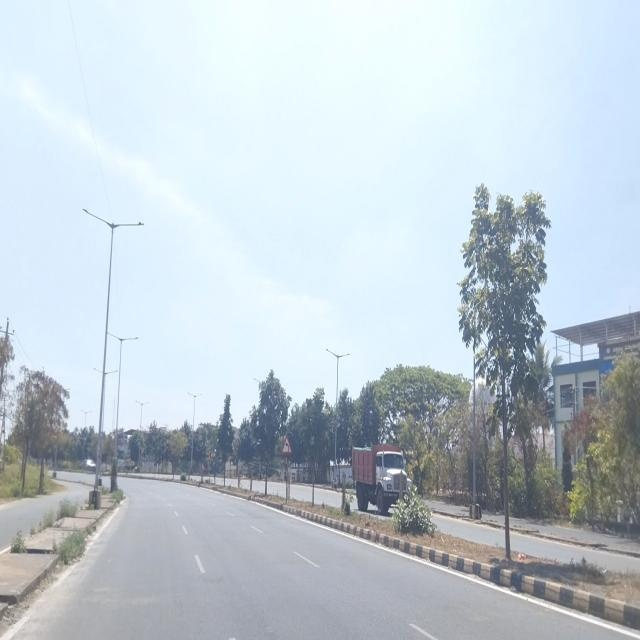bien_nguy_hiem: (281, 436, 293, 454)
